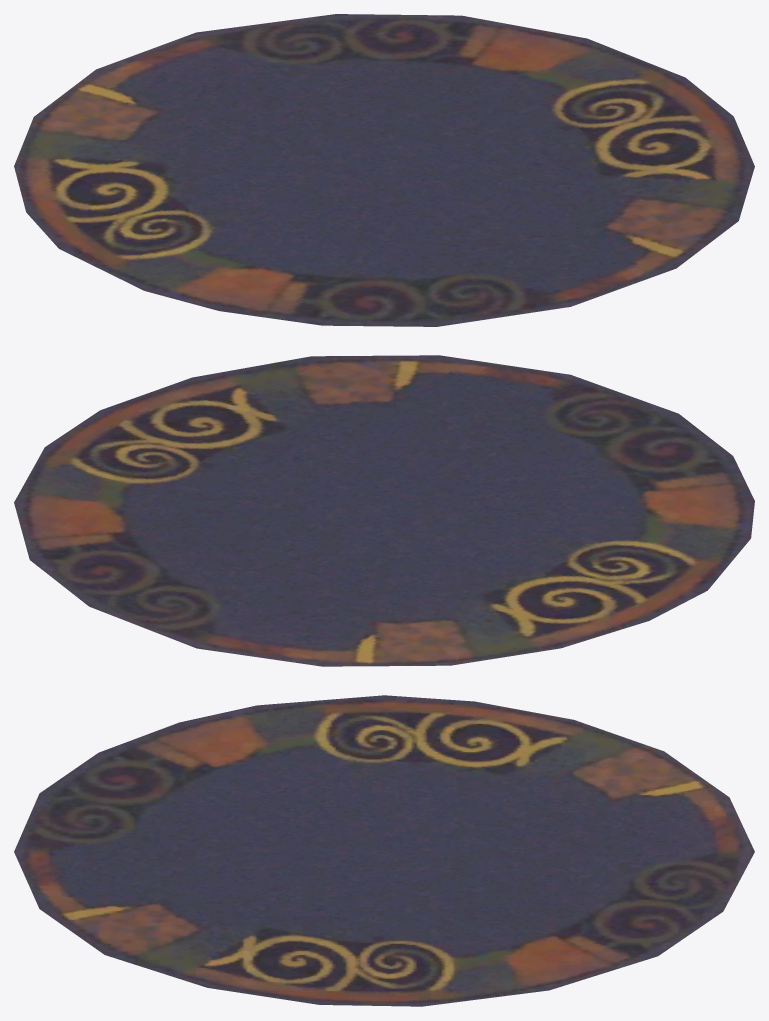
The model's file is frn_mdrn_rug_rnd_sml_s01.fbx.
3 renders of one model, top to bottom at view 1: azimuth 30°, elevation 25°; view 2: azimuth 150°, elevation 25°; view 3: azimuth 270°, elevation 25°, orthographic.
Visible parts, largest first — view 1: mesh_node; view 2: mesh_node; view 3: mesh_node.
Part boxes in pixels (<box>): mesh_node: <box>14,14,754,326</box>; mesh_node: <box>14,355,754,666</box>; mesh_node: <box>14,695,754,1006</box>.
Size of the model in its own units: 3.84 by 0 by 3.86.
